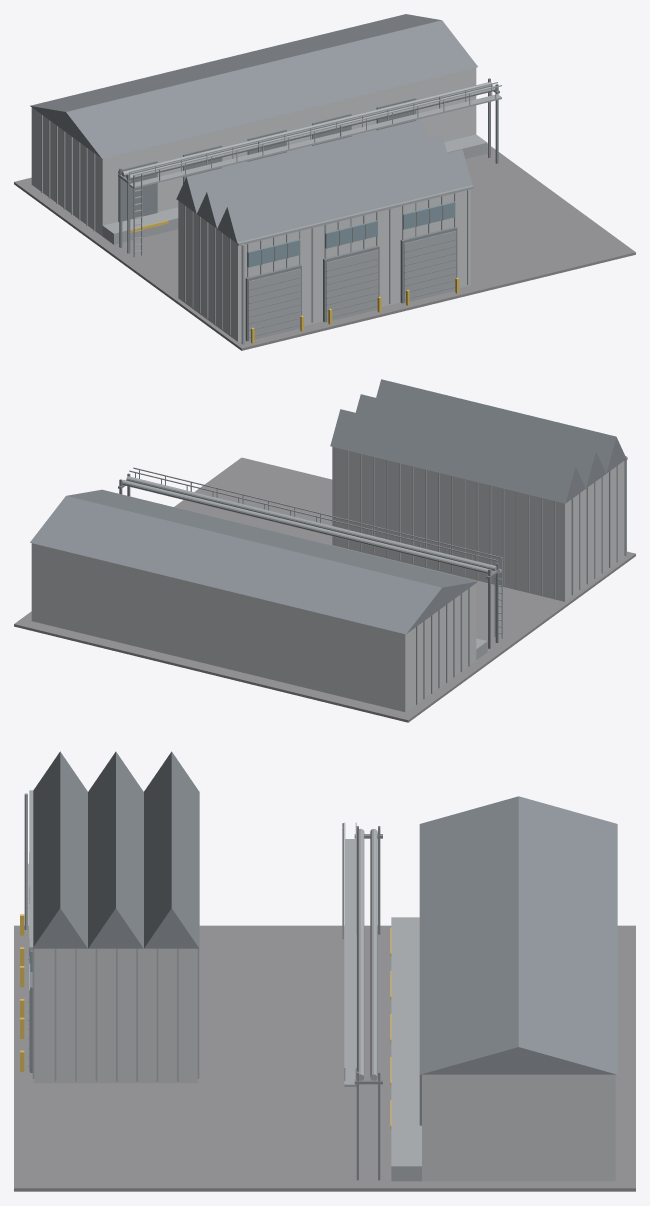
Rendered from industrial_4x4_b.glb.
The picture shows the model from 3 angles, top to bottom: view 1: azimuth 30°, elevation 25°; view 2: azimuth 150°, elevation 25°; view 3: azimuth 270°, elevation 25°; orthographic projection. The views are drawn at different scales.
Parts seen in each view (by area): view 1: industrial_4x4_b_yard; view 2: industrial_4x4_b_yard; view 3: industrial_4x4_b_yard.
Part boxes in pixels (x1,y1,x2,y2): industrial_4x4_b_yard: (14, 14, 635, 350); industrial_4x4_b_yard: (14, 379, 635, 722); industrial_4x4_b_yard: (14, 751, 635, 1191).
Size of the model in its own units: 30.5 by 9.7 by 30.5.
